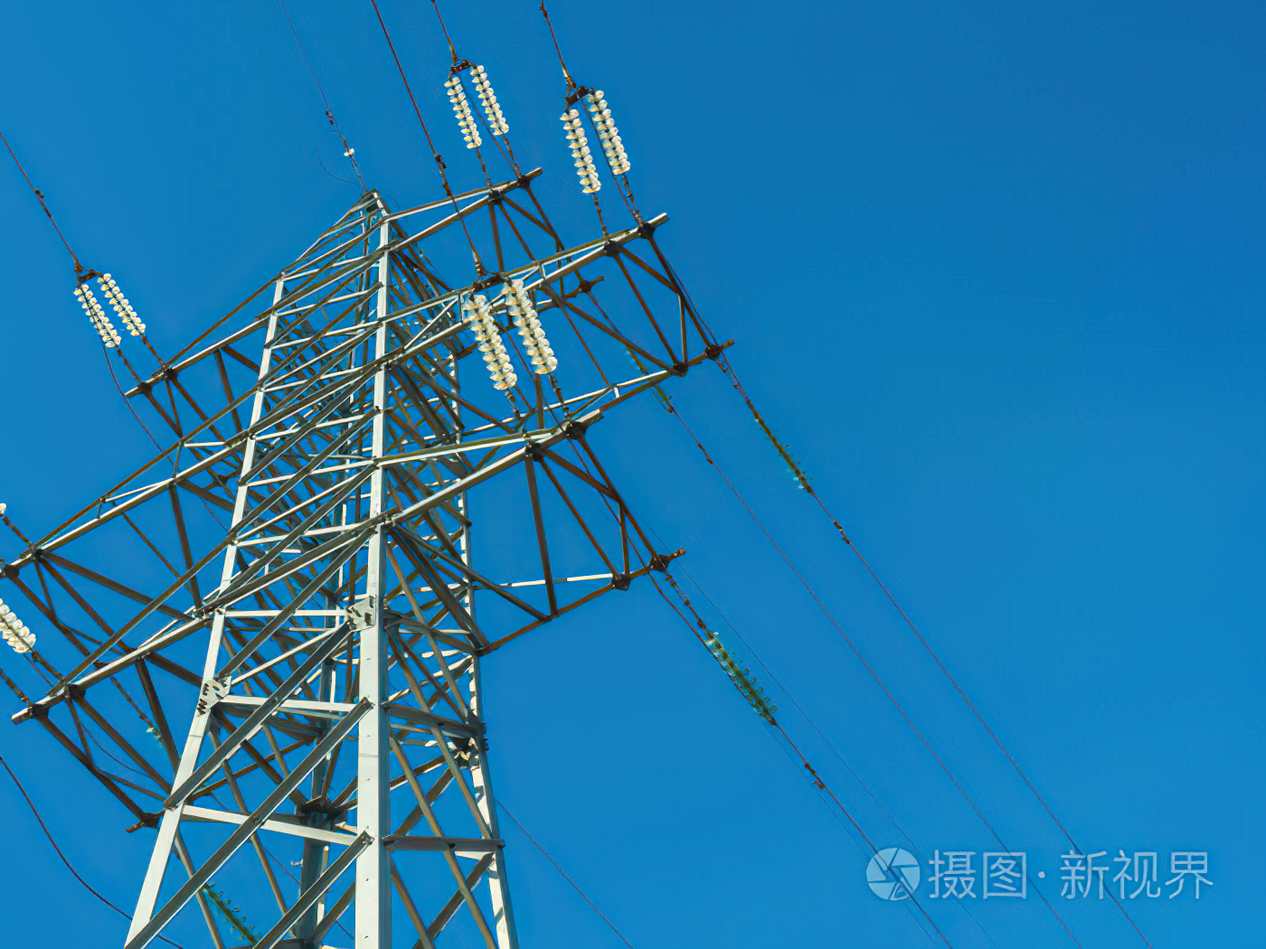insulator: (702, 624, 781, 726), (743, 403, 811, 497), (460, 287, 518, 396), (505, 282, 557, 375), (585, 91, 630, 177), (562, 110, 602, 195), (73, 283, 121, 350), (97, 271, 144, 337), (468, 63, 509, 137), (446, 75, 485, 147), (1, 607, 39, 653)
